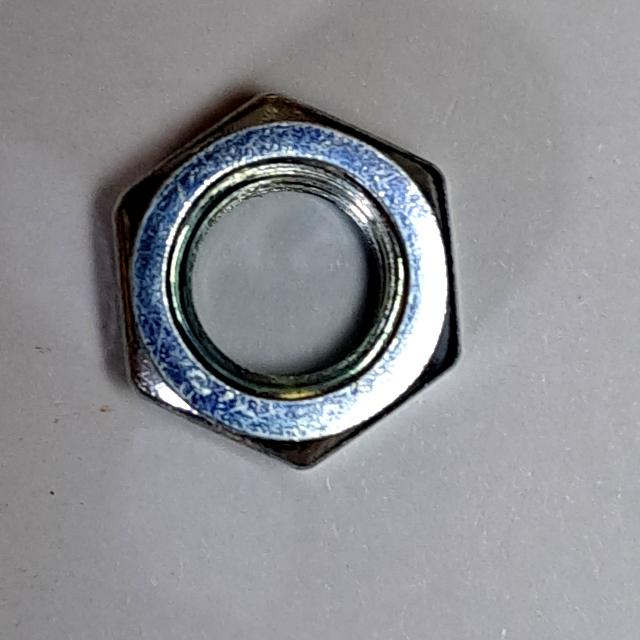Excellent: (96, 68, 477, 487)
